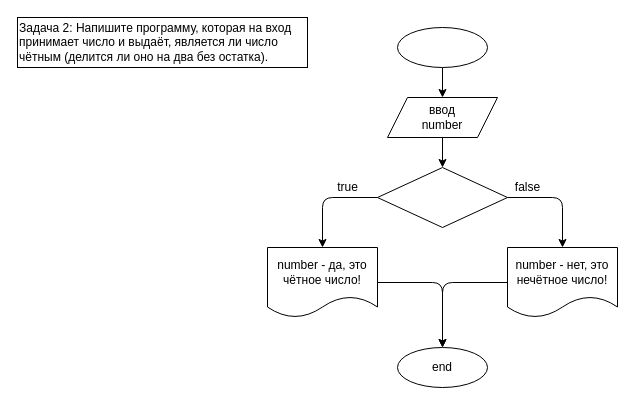
Image size: 635x405. Some labels were removed from this diagram. Here are the shapes that lost their labels. From the top down, the centre of each, then its label:
the point at 442,47: start
the point at 442,197: number % 2 == 0
